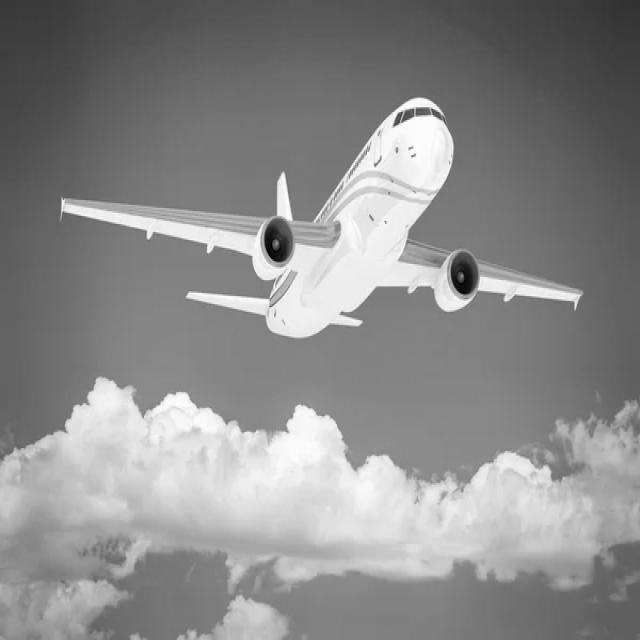Aircraft: (48, 62, 592, 383)
